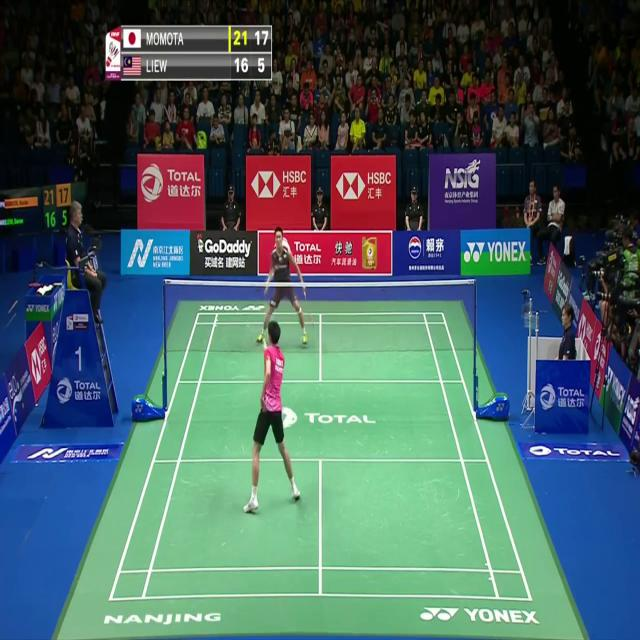Shuttlecock: (268, 268, 274, 280)
